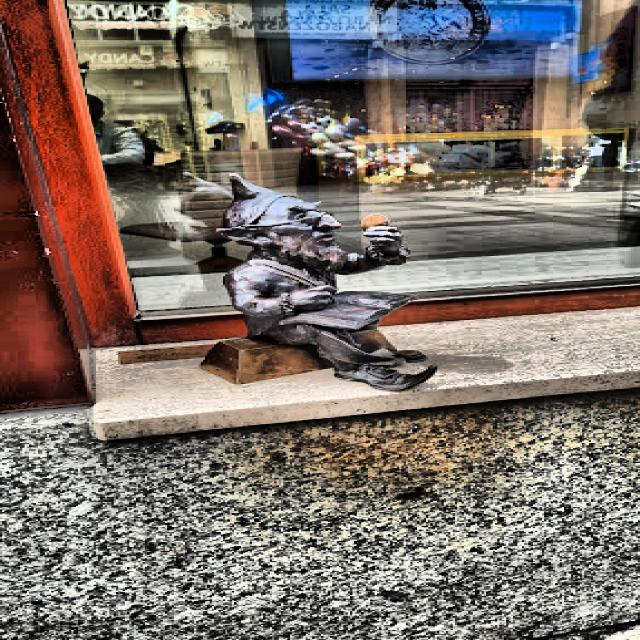Gaugan: (201, 173, 439, 393)
